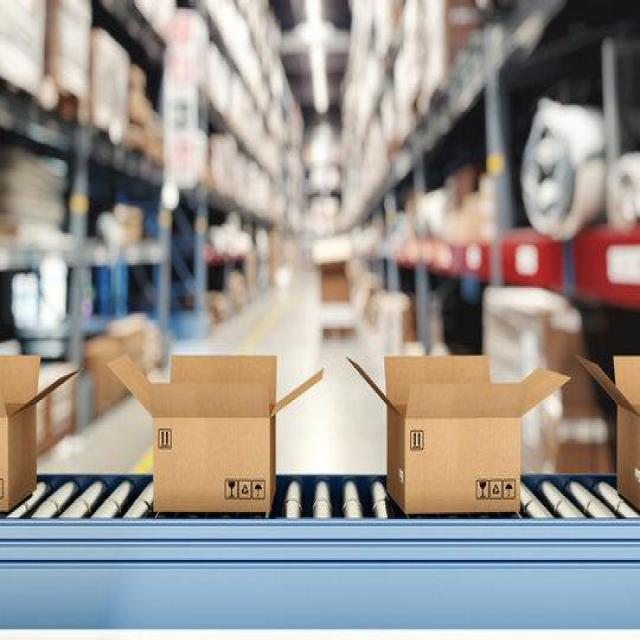box: (117, 354, 315, 521), (351, 361, 554, 515)
